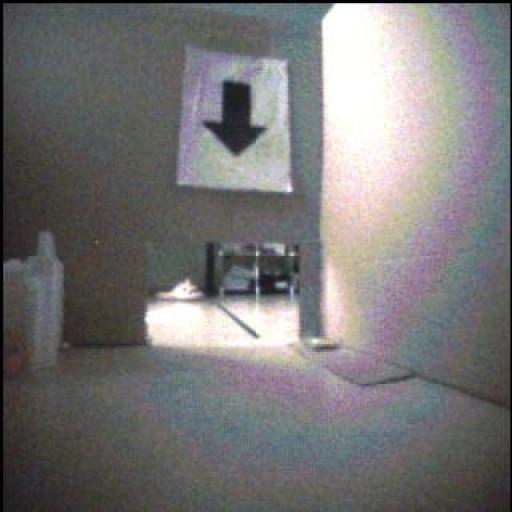arrow: (204, 83, 267, 156)
